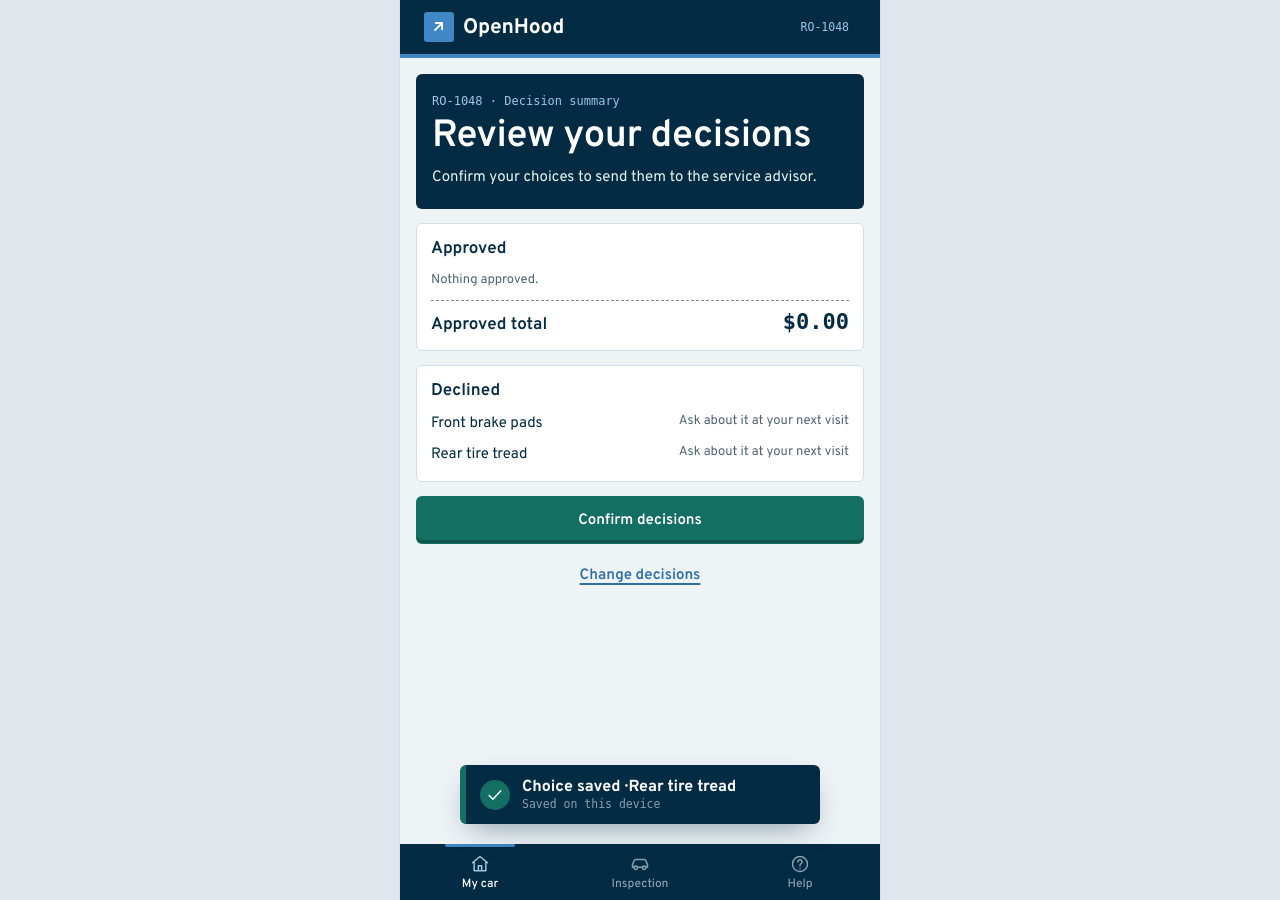
Scenario: a waiting visit with no approved repairs returns to needs update
Earlier steps of the test are not shown.
Later steps or results of the test are not shown.
Click the button "Confirm decisions": (640, 520) 416,496 -> 864,544
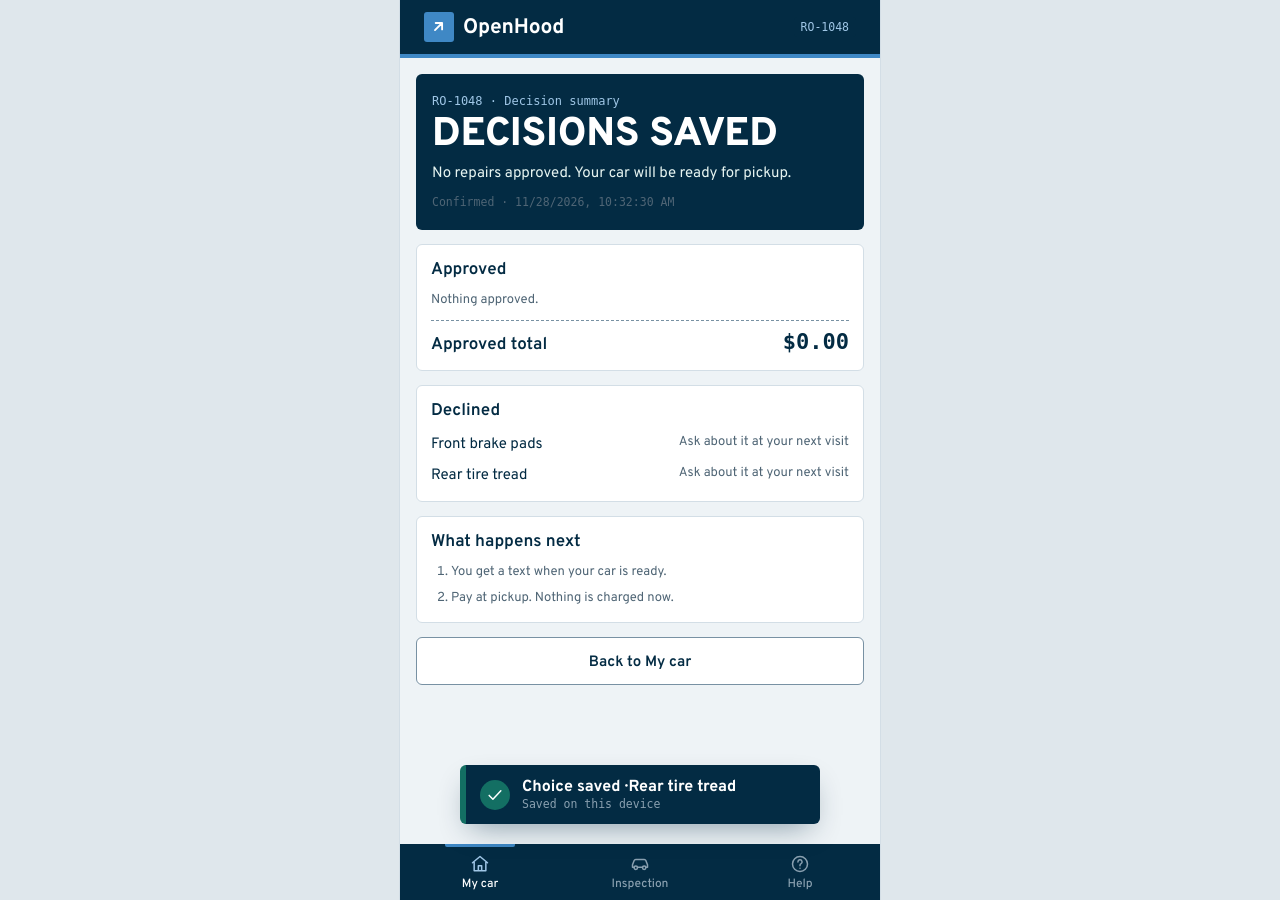
Click the link "My car": (480, 873) 462,854 -> 498,892
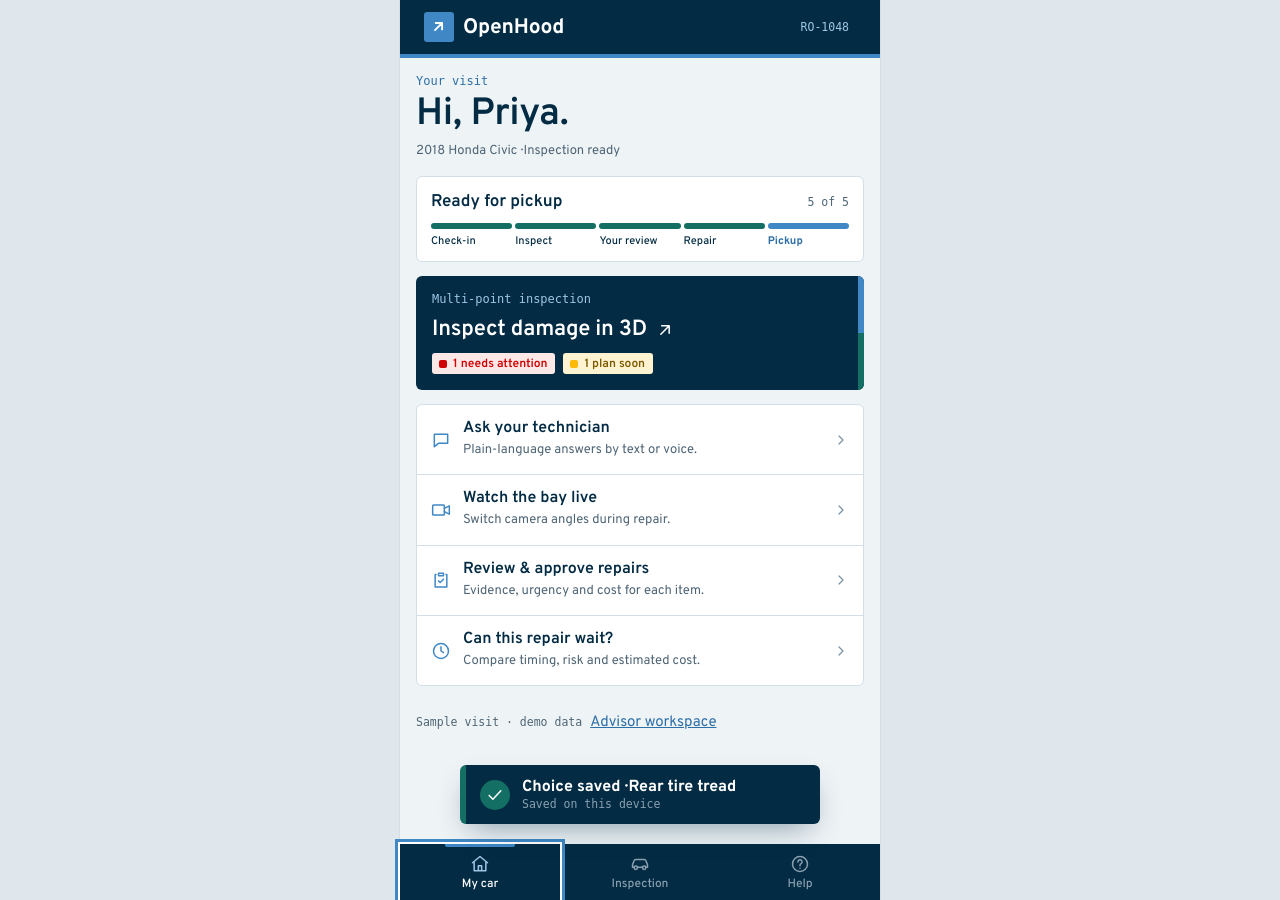
Click the link "Advisor workspace": (653, 722) 590,713 -> 716,732
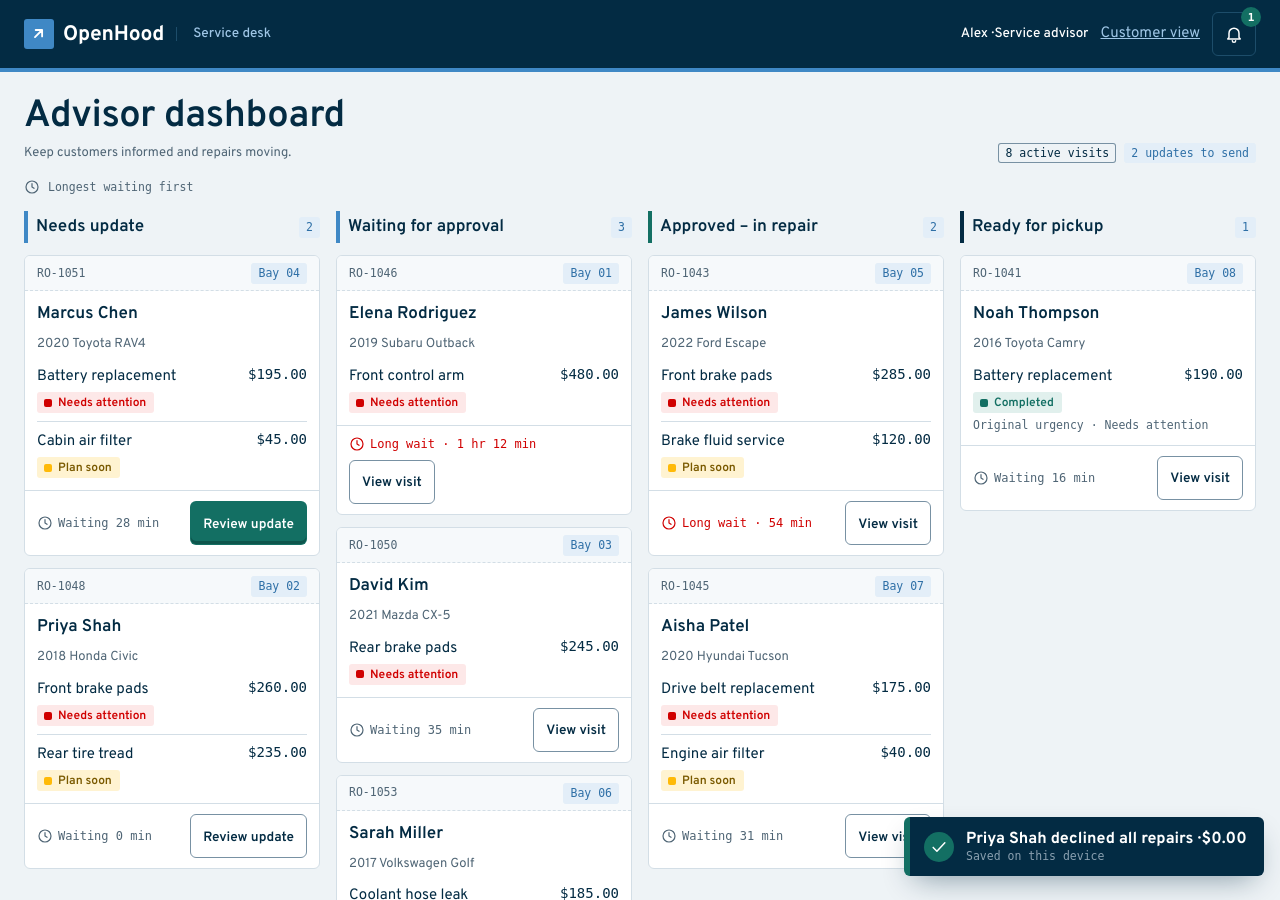
Now the heading "Priya Shah" is shown, box 37,616 -> 121,638
